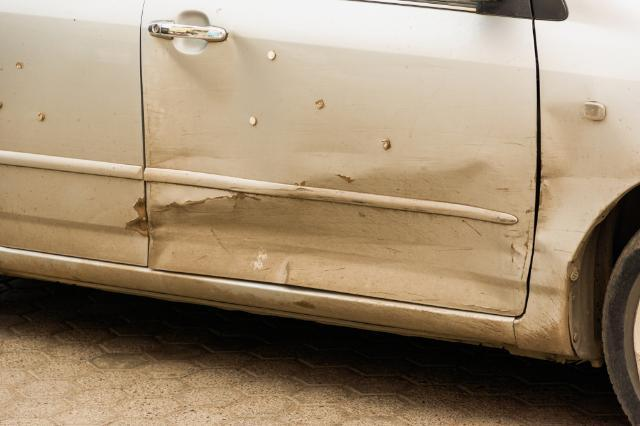crack: (126, 194, 147, 238)
dent: (153, 167, 513, 311), (535, 105, 630, 258), (156, 35, 262, 122)
